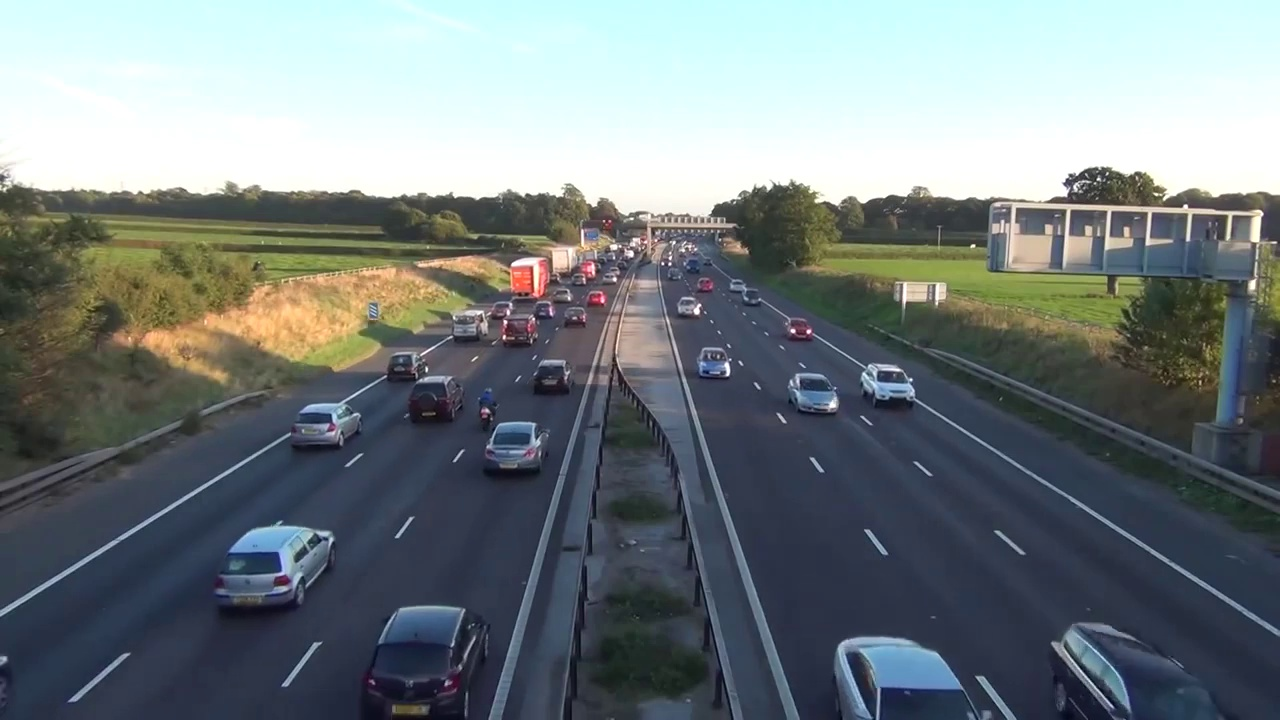bus: (1041, 619, 1241, 720), (826, 628, 995, 718), (365, 603, 496, 715), (214, 523, 345, 608), (484, 418, 555, 479), (288, 403, 360, 453), (407, 369, 465, 423), (784, 366, 845, 415), (854, 358, 917, 404), (533, 356, 570, 400), (384, 350, 426, 384), (695, 344, 734, 380), (783, 315, 815, 343), (676, 295, 703, 319), (585, 288, 607, 310), (563, 308, 587, 327), (741, 288, 765, 307), (491, 300, 516, 318), (533, 299, 554, 318), (551, 288, 575, 303), (695, 276, 715, 294), (728, 278, 747, 295), (570, 272, 589, 288), (601, 273, 619, 285), (667, 268, 682, 282), (549, 272, 561, 286), (660, 259, 672, 269), (606, 267, 622, 274), (702, 257, 713, 267), (616, 261, 627, 269), (595, 262, 601, 273)
car: (509, 256, 549, 300), (551, 246, 578, 280)
jeep: (469, 386, 504, 433)
lorry: (502, 311, 539, 348), (449, 309, 488, 343), (578, 255, 584, 272)
minibus: (580, 261, 597, 280), (686, 257, 700, 275)
